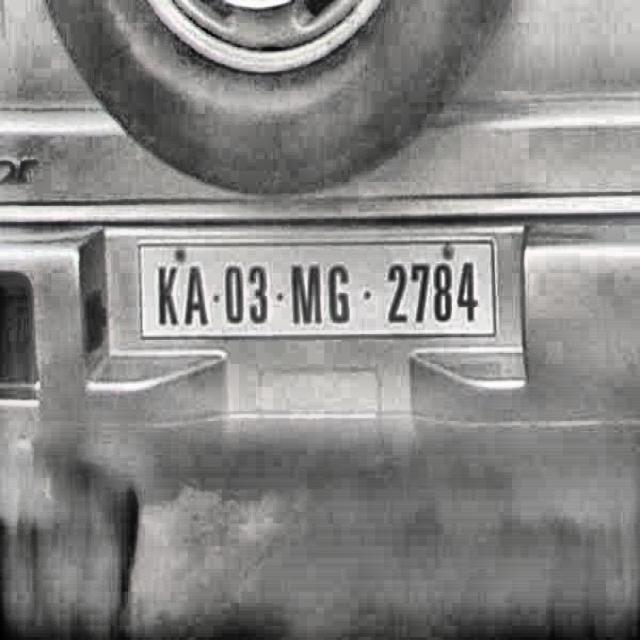license_plate: (145, 246, 488, 342)
